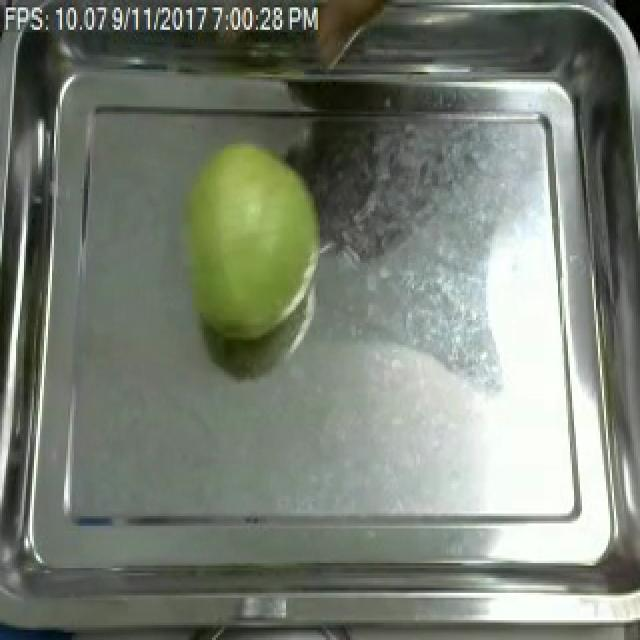Fruit: (166, 131, 332, 350)
